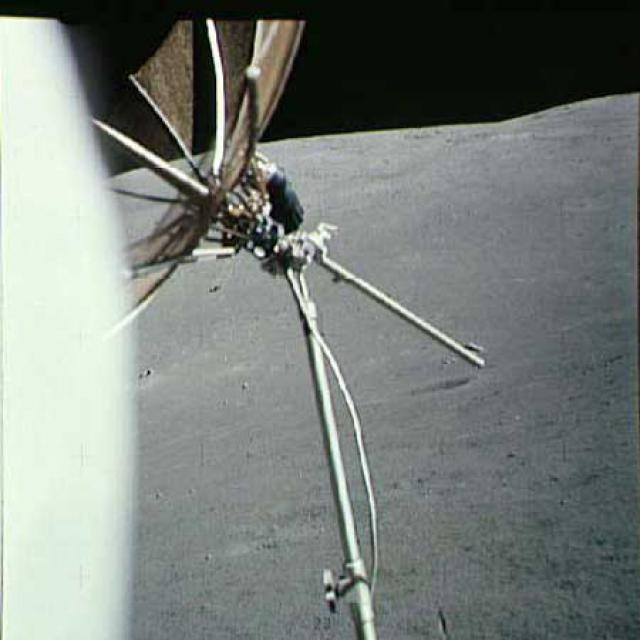artifact: (48, 13, 499, 397), (280, 396, 413, 638)
crater: (405, 372, 477, 396)
